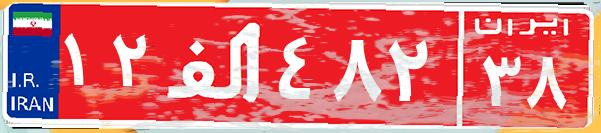1: (57, 26, 110, 107)
2: (385, 28, 445, 110), (110, 28, 158, 105)
3: (475, 38, 525, 113)
4: (273, 28, 330, 110)
8: (330, 28, 385, 110), (525, 38, 570, 115)
الف: (158, 15, 273, 115)
